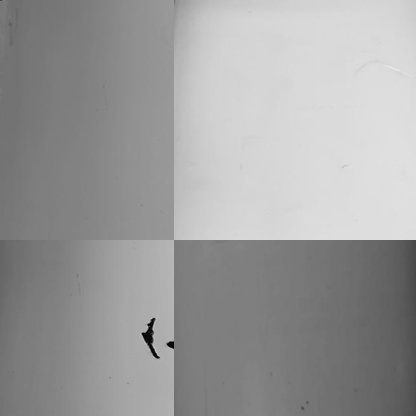kongdong: (140, 317, 161, 361), (163, 333, 178, 350)
